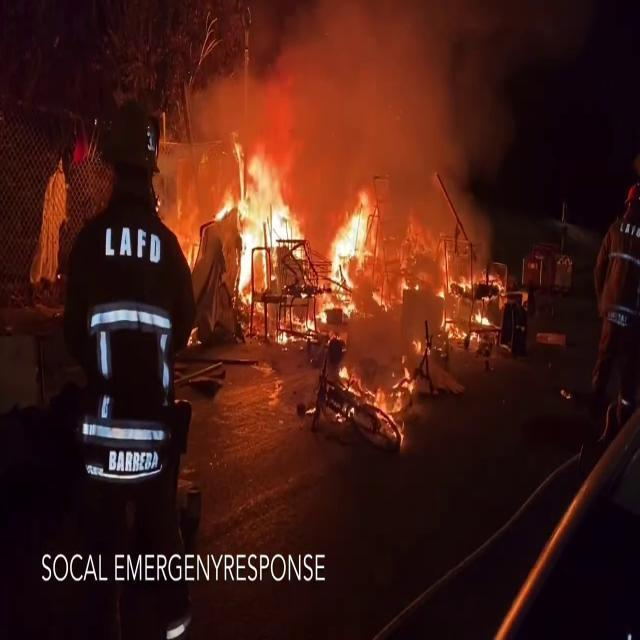Fire: (222, 139, 379, 323)
Smoke: (196, 0, 518, 156)
